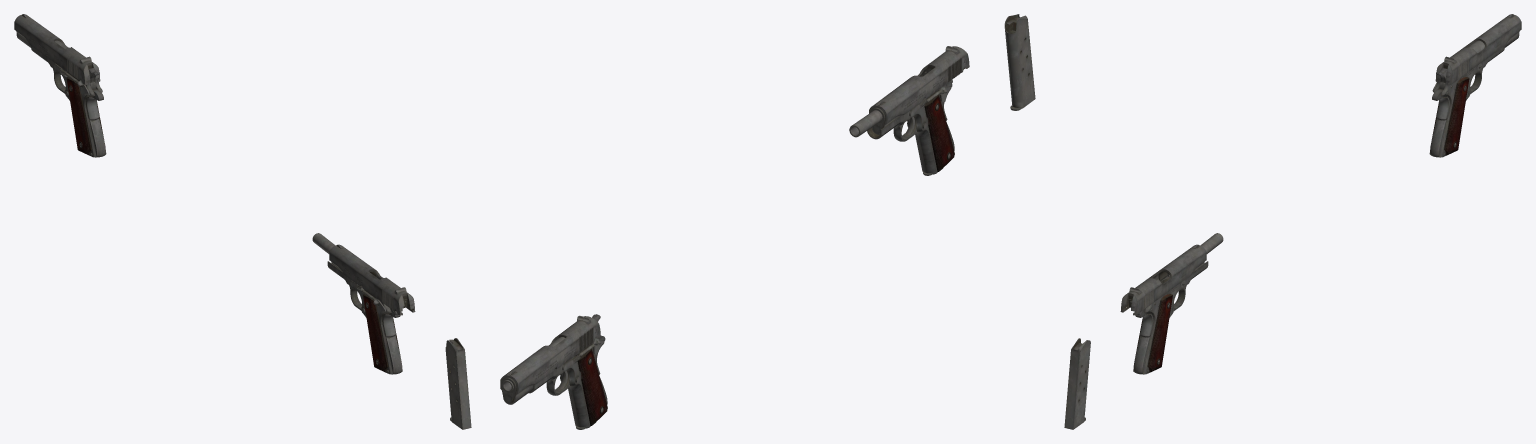
File: gun-m1911.glb
The picture shows the model from 3 angles, left to right: view 1: azimuth 30°, elevation 25°; view 2: azimuth 150°, elevation 25°; view 3: azimuth 330°, elevation 25°; orthographic projection. The views are drawn at different scales.
Parts seen in each view (by area): view 1: slide_low.002, slide_low.001, magazine_empty, grips_low.001, grips_low.002, base_low.001, base_low.002; view 2: slide_low.001, slide_low.002, magazine_empty, base_low.002, base_low.001, grips_low.002, grips_low.001; view 3: slide_low.002, slide_low.001, magazine_empty, grips_low.001, grips_low.002, base_low.001, base_low.002.
Boxes of the visible parts, left/top/right/bottom form: slide_low.002: left=329, top=245, right=415, bottom=315; slide_low.001: left=14, top=14, right=100, bottom=84; magazine_empty: left=445, top=338, right=471, bottom=429; grips_low.001: left=66, top=77, right=104, bottom=155; grips_low.002: left=363, top=294, right=400, bottom=372; base_low.001: left=31, top=45, right=106, bottom=157; base_low.002: left=327, top=261, right=402, bottom=374; slide_low.001: left=500, top=316, right=600, bottom=404; slide_low.002: left=869, top=46, right=969, bottom=134; magazine_empty: left=1004, top=14, right=1035, bottom=110; base_low.002: left=867, top=84, right=954, bottom=174; base_low.001: left=528, top=338, right=607, bottom=428; grips_low.002: left=924, top=95, right=954, bottom=171; grips_low.001: left=577, top=349, right=607, bottom=425; slide_low.002: left=1120, top=245, right=1206, bottom=315; slide_low.001: left=1435, top=14, right=1521, bottom=84; magazine_empty: left=1064, top=338, right=1090, bottom=429; grips_low.001: left=1431, top=77, right=1469, bottom=155; grips_low.002: left=1135, top=294, right=1172, bottom=372; base_low.001: left=1429, top=45, right=1504, bottom=157; base_low.002: left=1133, top=261, right=1208, bottom=374.
Bounding box in the file's own units: 0.0326 × 0.132 × 1.15.
2 materials, 2 textured.
